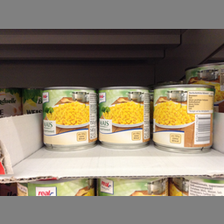corn: (151, 83, 216, 154), (41, 86, 97, 151), (98, 86, 151, 150)
